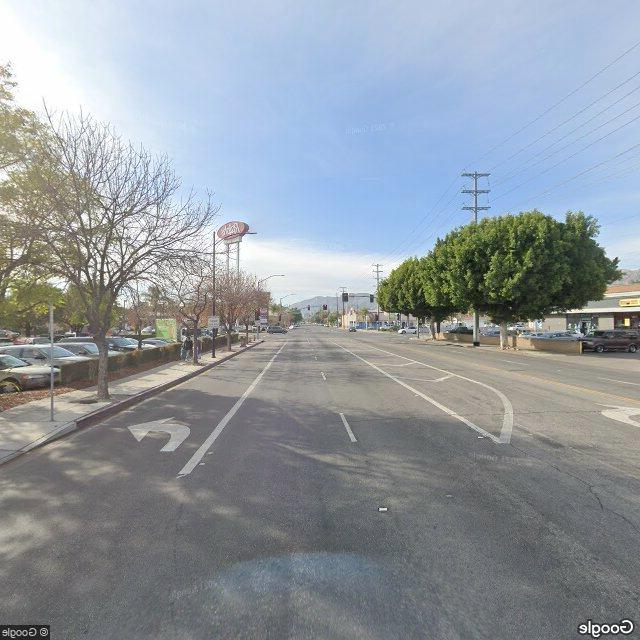pothole: (515, 443, 640, 550)
